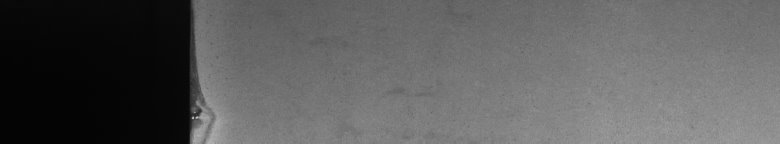hb: (200, 85, 221, 136)
